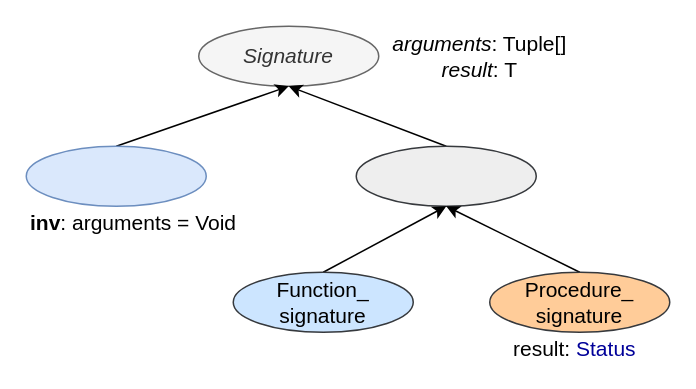
Some shapes in this 696 by 389 pixel diagram are drawn without their labels. Each missing label, with the centre of its shape:
"Property_ signature" belongs at (x=115, y=175).
"Routine_ signature" belongs at (x=445, y=175).
